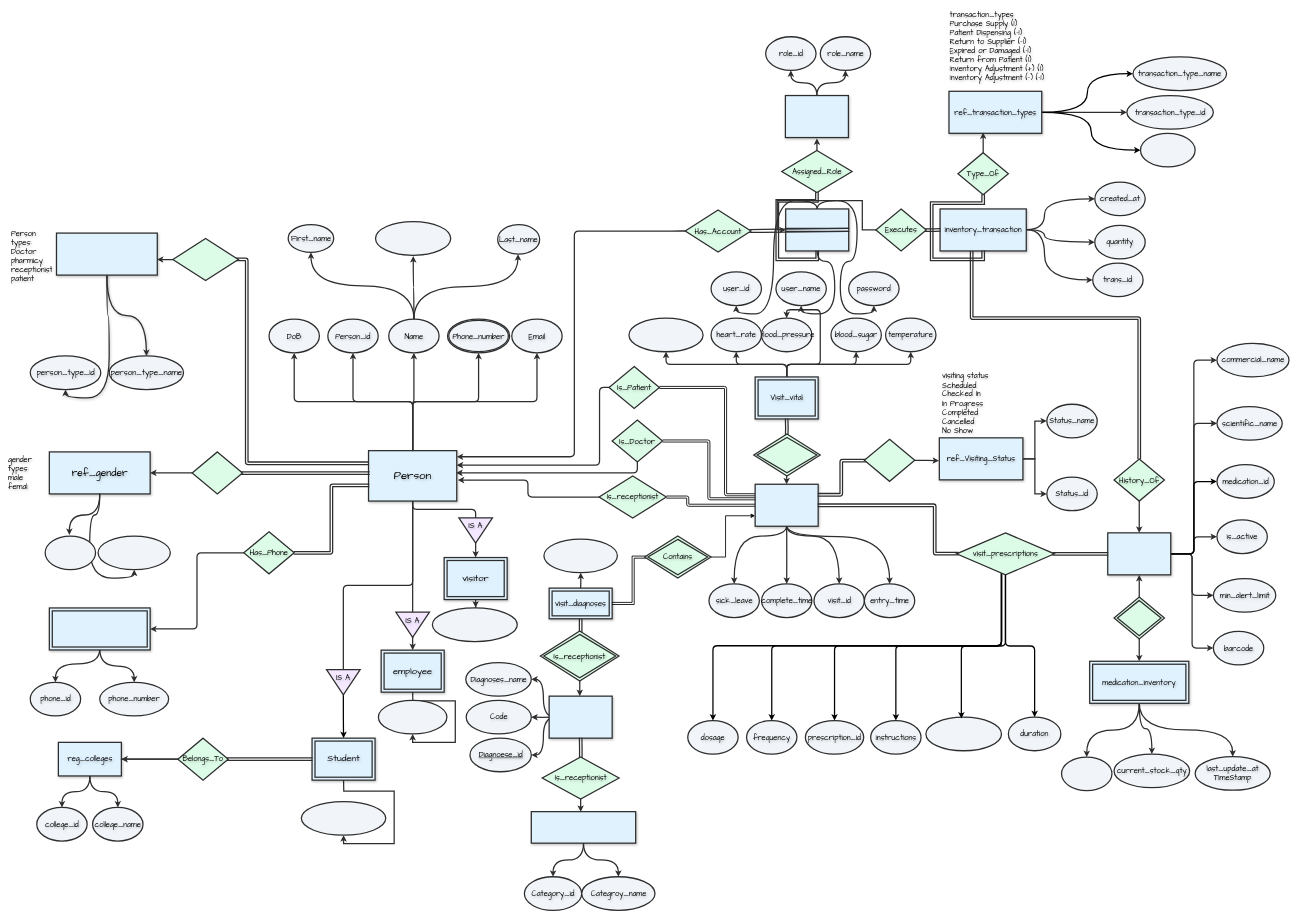
The diagram is 1297 pixels wide and 918 high, and some of its shapes have lost their labels. The shapes that lost their labels are listed below. From the top down, each one's centre as x and y in pixels, then its label:
point 817,117: ref_role
point 1168,150: factor
point 413,238: middle_name
point 817,230: system_user
point 107,254: ref_person_types
point 205,259: Categorized_As
point 666,334: Oxygen_sqturation
point 217,472: Has_Gender
point 787,454: Has_Vitals
point 889,460: Status
point 787,506: Medical_Visits
point 70,552: gender_id
point 134,552: gender_name
point 580,555: Visit_diagnoses_id
point 1139,554: ref_medications
point 100,629: person_phones
point 475,624: National_id_number
point 1139,617: Has_Stock
point 412,717: Job_id_number
point 581,718: ref_Diagnoese
point 963,733: quantity_medication
point 1086,773: Attribute
point 343,818: Student_id_number
point 584,828: ref_diagonses_Categories
